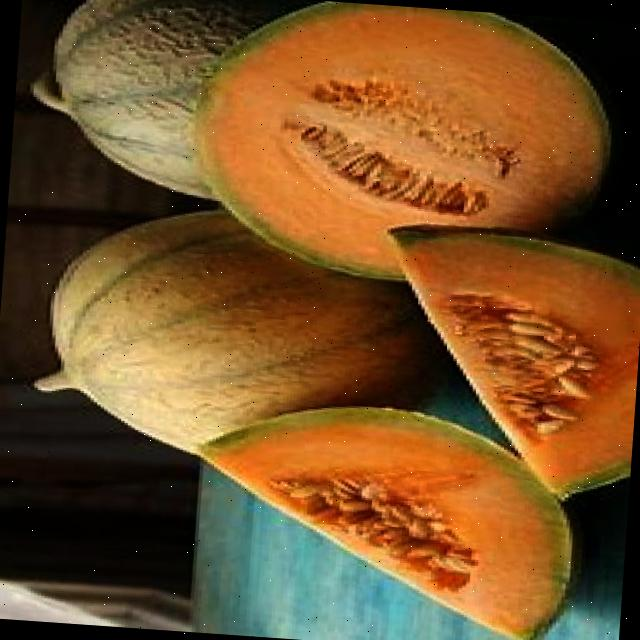Hami Melon: (184, 0, 619, 300), (42, 201, 458, 468), (182, 398, 583, 640), (369, 224, 640, 496), (45, 0, 275, 202)
